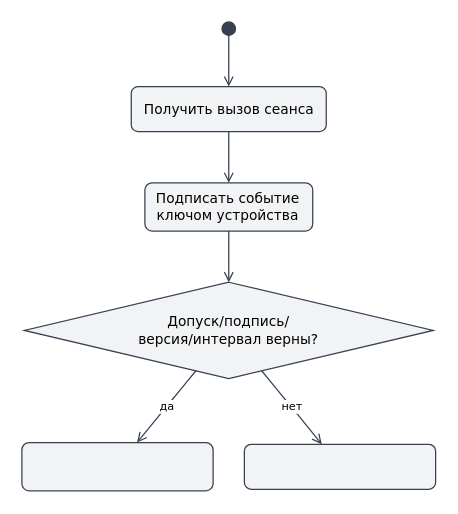
Some shapes in this 458 by 514 pixel diagram are drawn without their labels. The shapes that lost their labels are listed below. From the top down, each one's centre as x and y in pixels, then its label:
the point at 117,466: Сохранить событие; подтвердить локально
the point at 339,466: Отклонить с причиной
